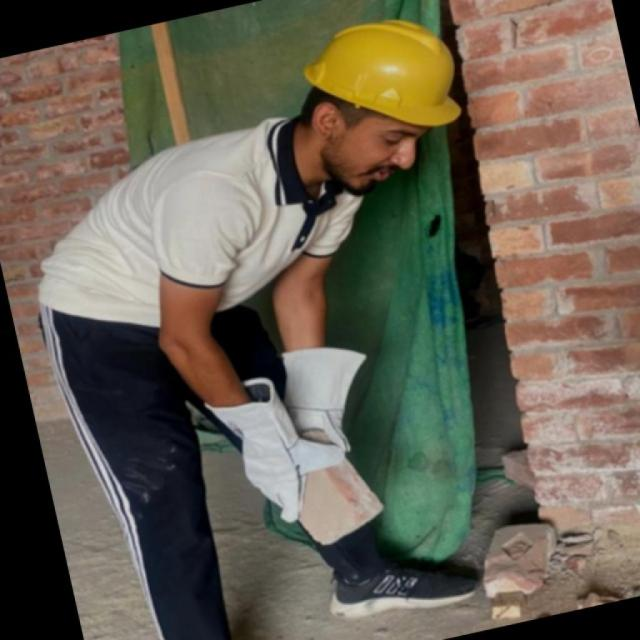Gloves-Detection: (260, 347, 368, 448), (238, 384, 319, 504)
